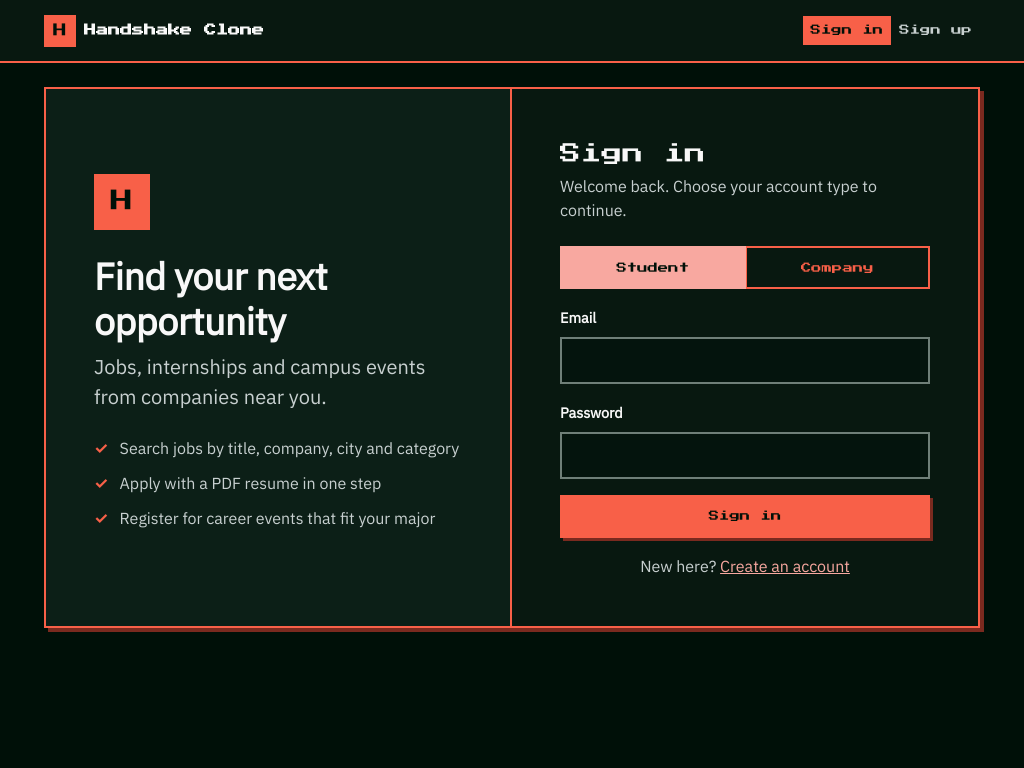
Test: Login page › rejects a badly formed email before sending
Type "not-an-email" into the field labelled "Email".
click(745, 361); type("not-an-email")  # box [560,337,930,384]
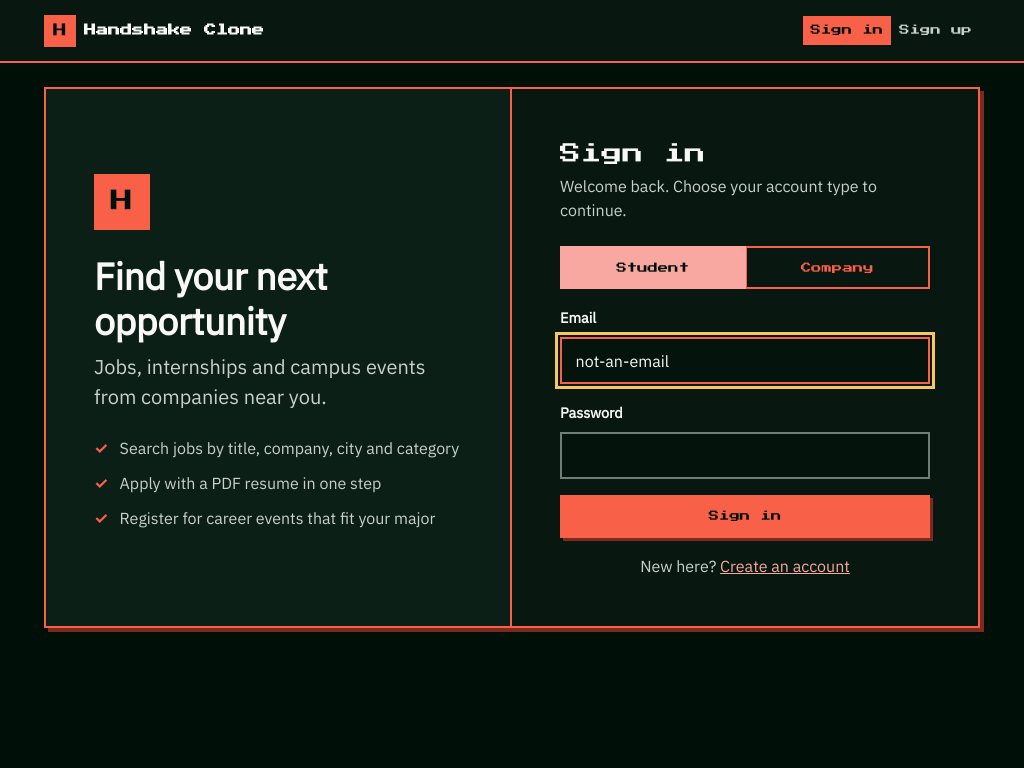
Type "Secret123" into the password field labelled "Password".
click(745, 456); type("Secret123")  # box [560,432,930,479]
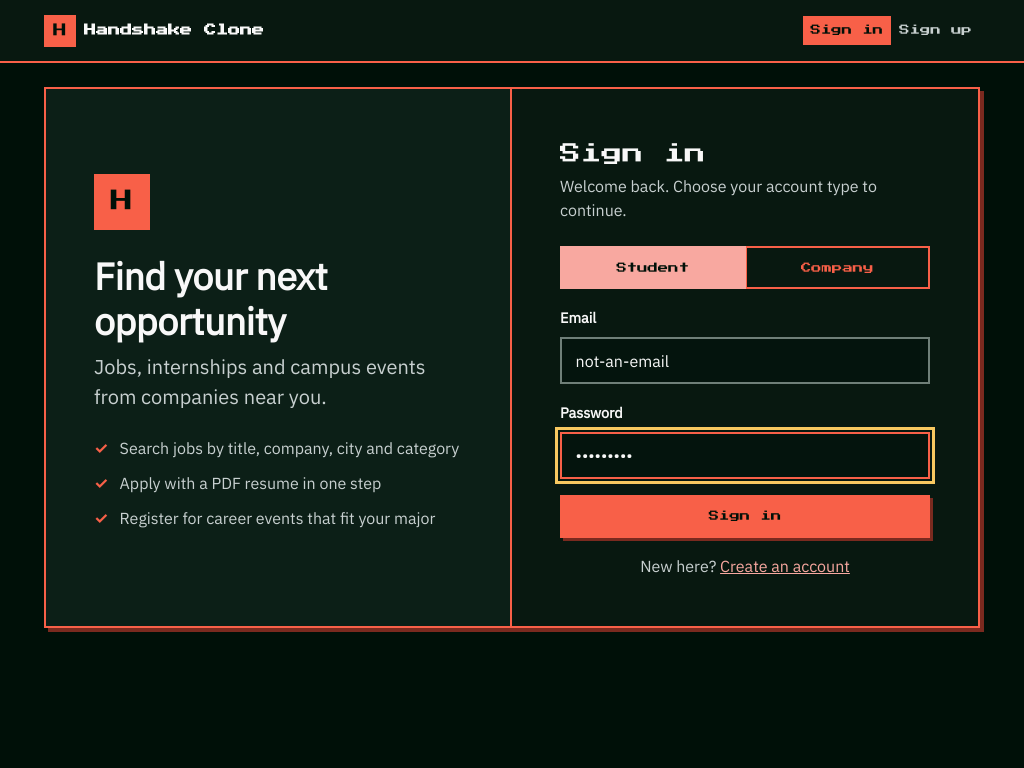
Click the button "Sign in".
click(745, 517)  # box [560,495,930,538]
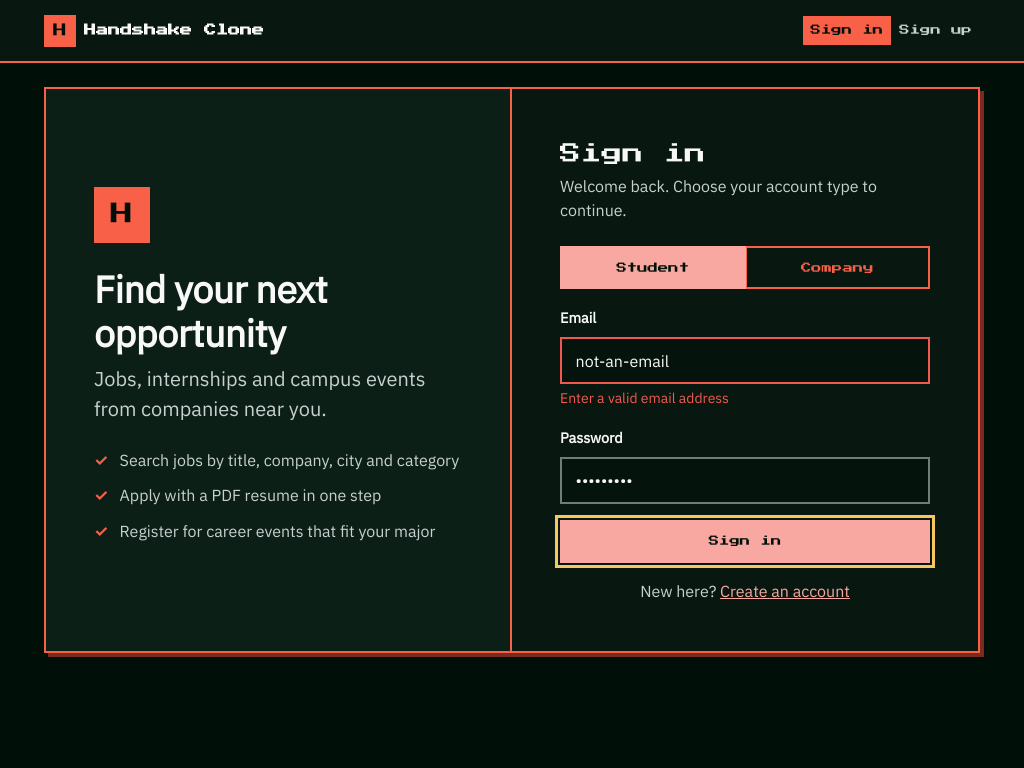
Result: the text "Enter a valid email address" is shown at [560,389,729,407]
